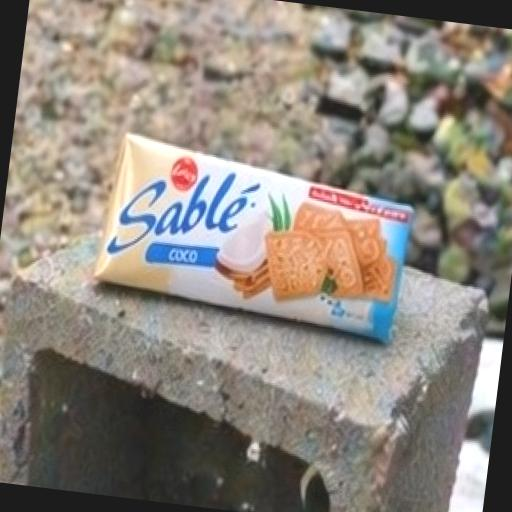sabl: (40, 56, 468, 398)
